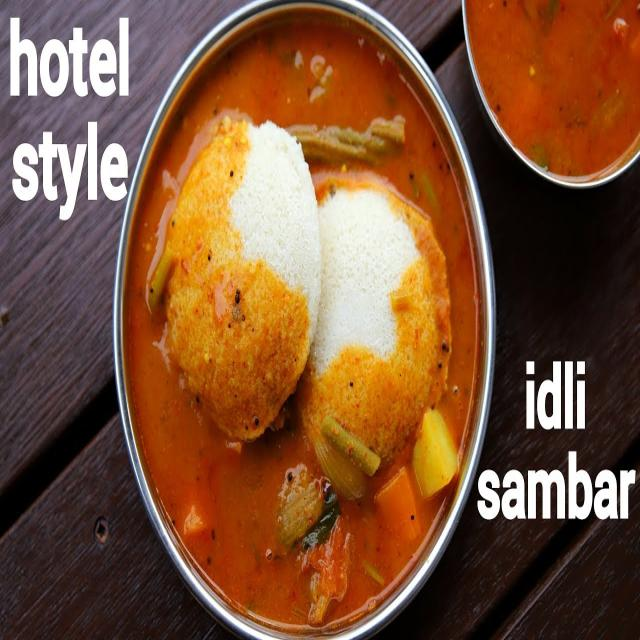Idly: (153, 107, 328, 454), (305, 153, 454, 511)
